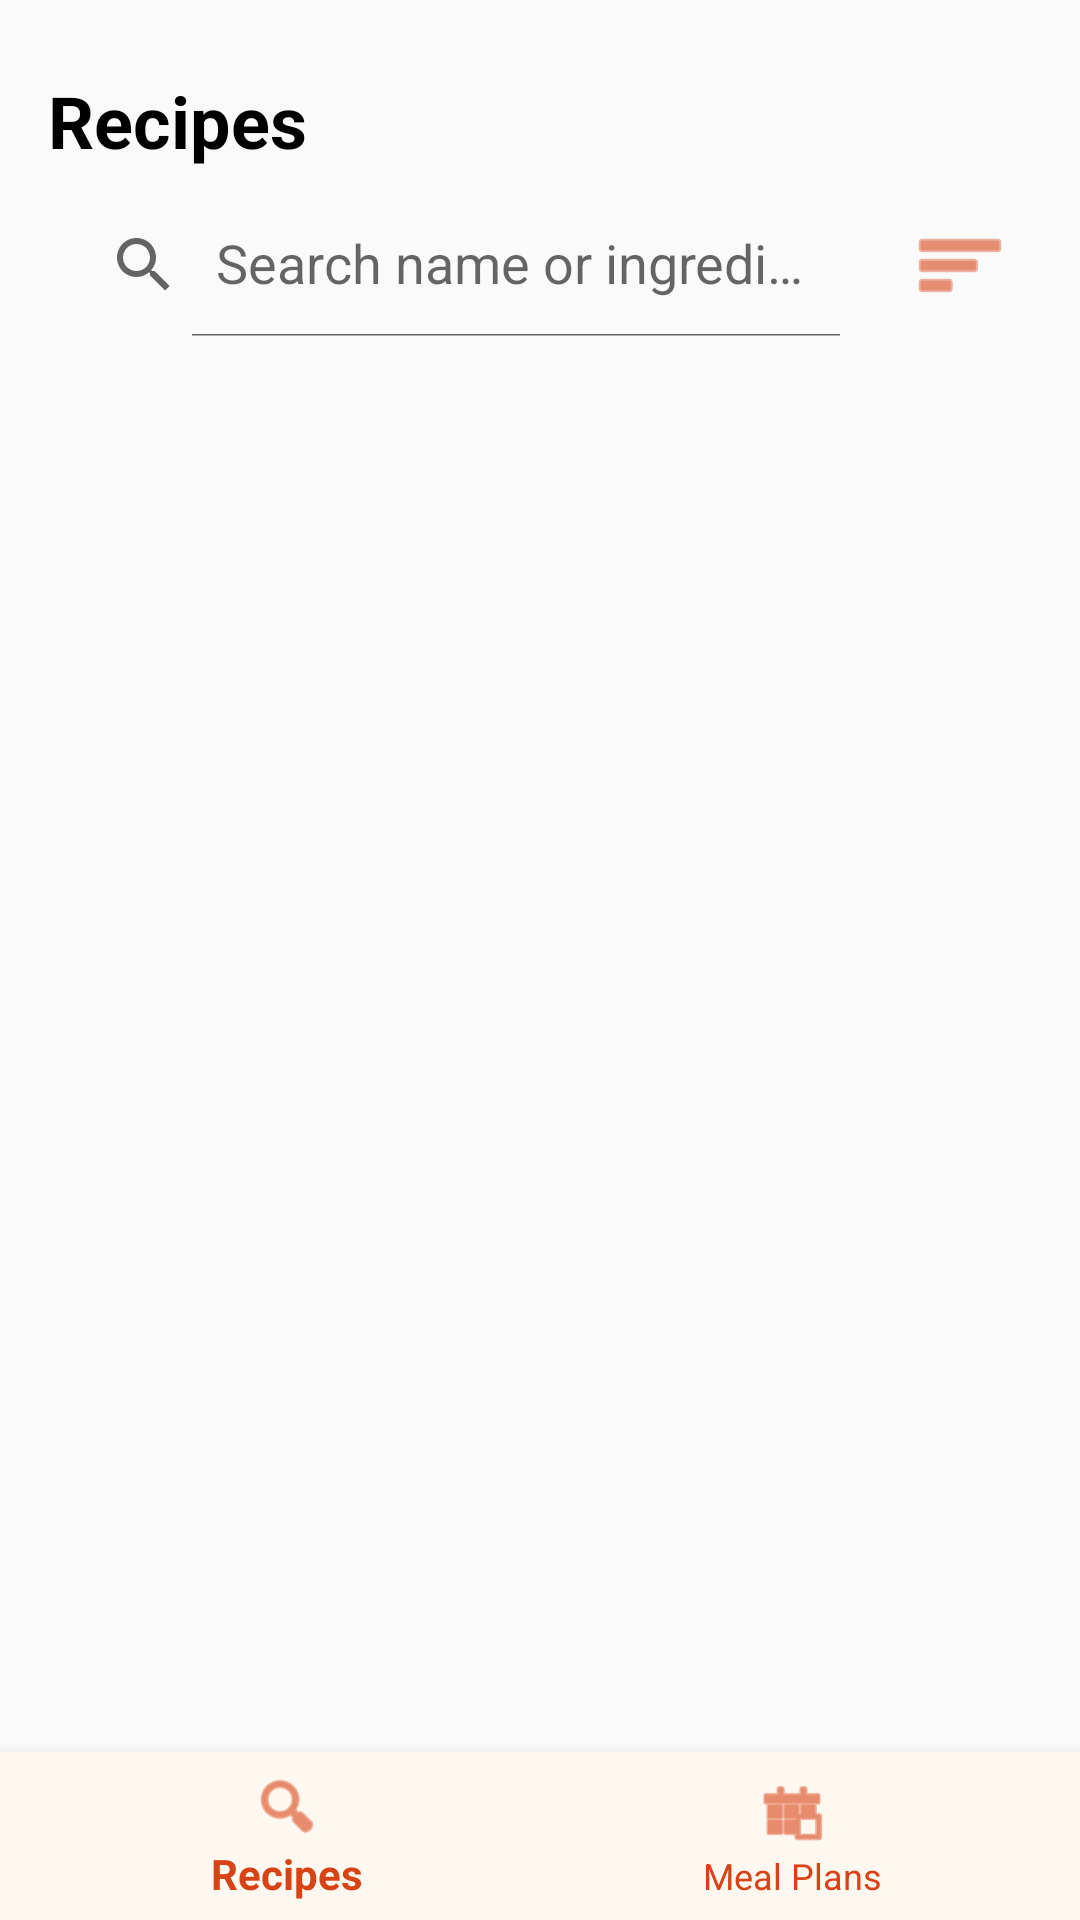

Where icons sit on this 1080 x 1920 app screen, as (x1, y1, x2, y2):
Filter Recipes: (919, 239, 1001, 292)
